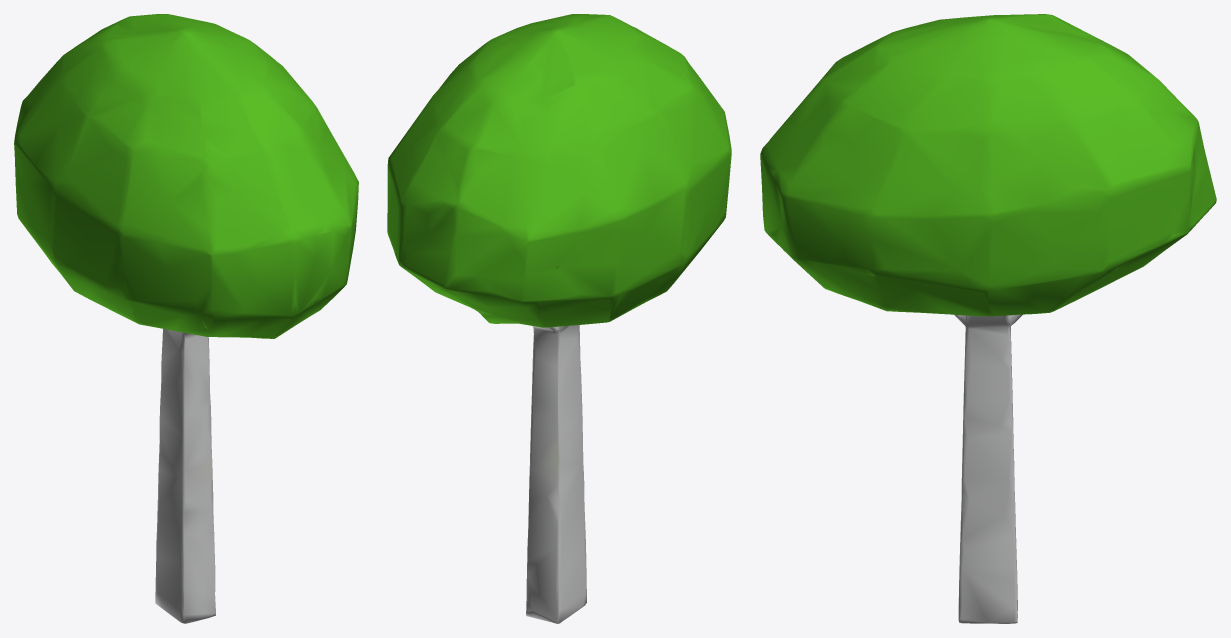
Rendered from cc0-birch-tree-lod0.glb.
3 views of the same model, side by side, from view 1: azimuth 30°, elevation 25°; view 2: azimuth 150°, elevation 25°; view 3: azimuth 270°, elevation 25° (orthographic). The views are drawn at different scales.
Visible parts, largest first — view 1: part_0; view 2: part_0; view 3: part_0.
Boxes of the visible parts, x1=… form: part_0: x1=14, y1=14, x2=358, y2=623; part_0: x1=387, y1=14, x2=731, y2=623; part_0: x1=760, y1=14, x2=1216, y2=623.
Size of the model in its own units: 1.7 by 3.57 by 2.48.
